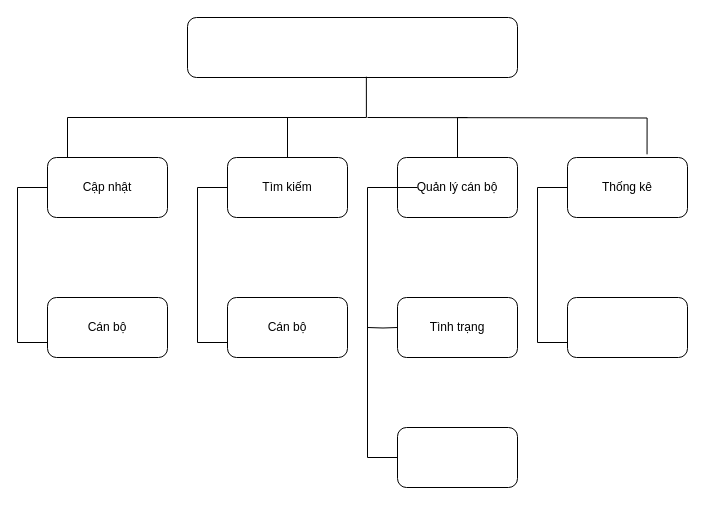
This 705x505 diagram has some shape labels left out. Here are the shapes that lost their labels. From the top down, the centre of each, then its label:
At pixel 352 47: "QUẢN LÝ NHÂN SỰ HỘI ĐỒNG NHÂN DÂN HUYỆN LONG PHÚ".
At pixel 627 327: "Thống kê cán bộ".
At pixel 457 457: "In danh sách cán bộ".
